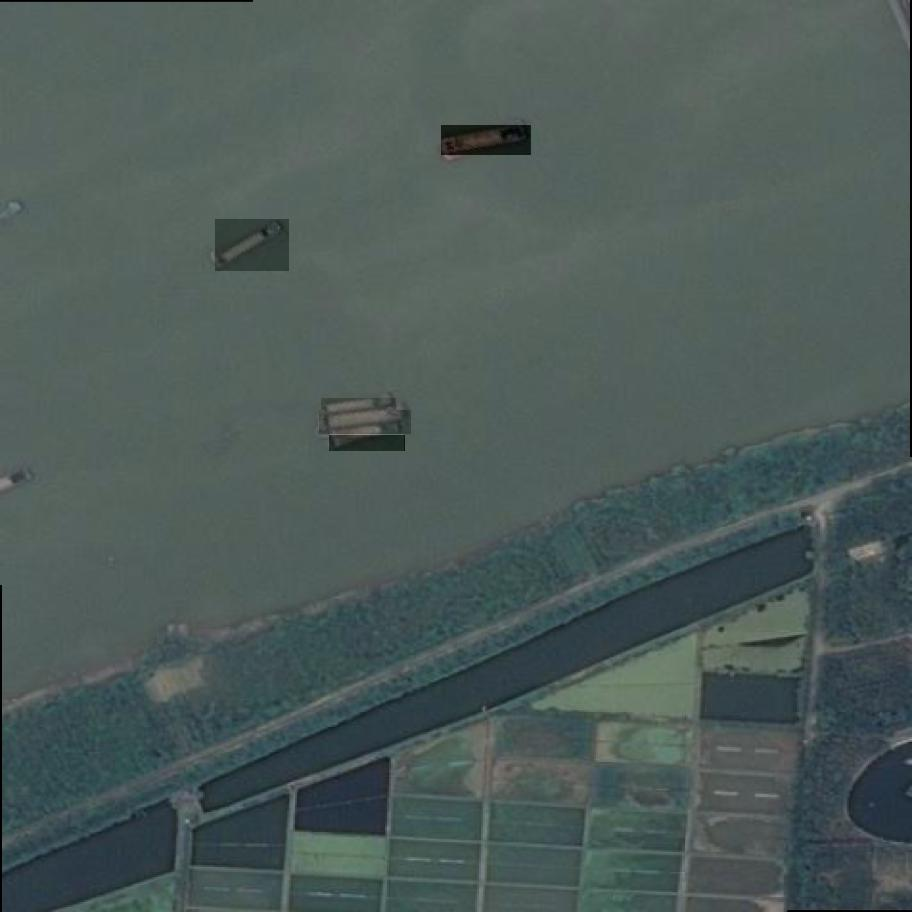ship: (216, 219, 289, 274), (441, 125, 531, 157), (328, 417, 405, 453), (320, 411, 412, 435), (321, 399, 396, 424)
